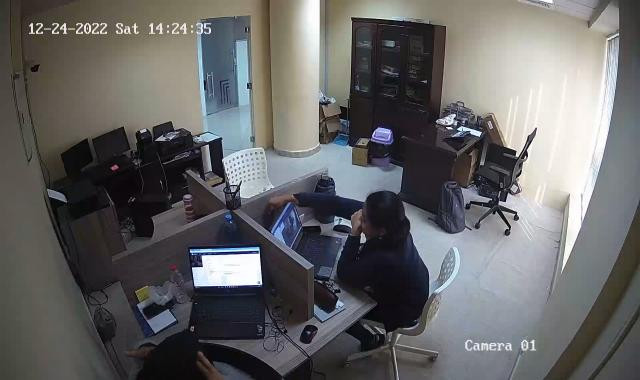no_hairnet: (361, 187, 408, 245)
